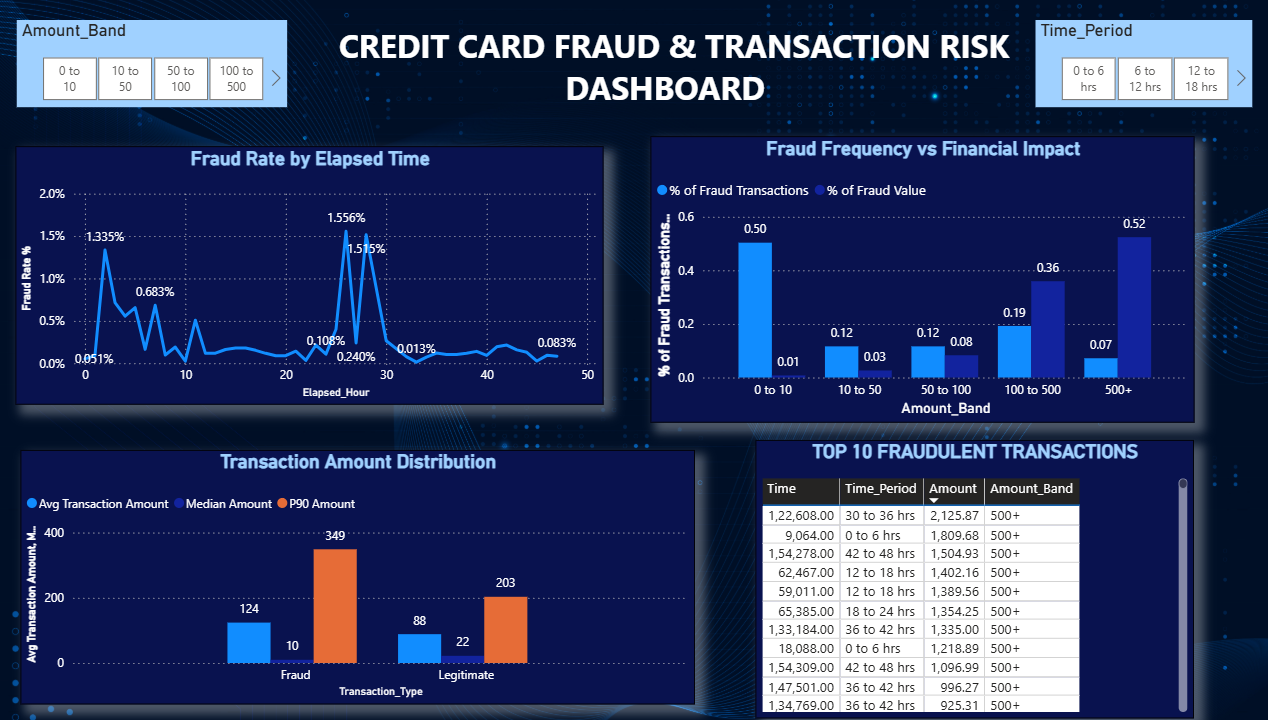

What the dashboard file says about the page in this screenshot:
{"tool":"powerbi","page":{"name":"Fraud Analysis","canvas":[1280,720],"ordinal":1},"visuals":[{"type":"lineChart","title":"Fraud Rate by Elapsed Time","fields":{"Category":["fraud_cleaned.Elapsed_Hour"],"Y":["fraud_cleaned.Fraud Rate %"]},"box":[28,146,588,258],"z":0},{"type":"clusteredColumnChart","title":"Fraud Frequency vs Financial Impact","fields":{"Category":["fraud_cleaned.Amount_Band"],"Y":["fraud_cleaned.% of Fraud Transactions","fraud_cleaned.% of Fraud Value"]},"box":[662,136,544,286],"z":1000},{"type":"textbox","box":[315,18.3,733.3,115],"z":2000},{"type":"slicer","title":"Amount_Band","fields":{"Values":["fraud_cleaned.Amount_Band"]},"box":[28.2,19.7,270.4,87.3],"z":3000},{"type":"slicer","title":"Time_Period","fields":{"Values":["fraud_cleaned.Time_Period"]},"box":[1047.9,19.7,216.9,87.3],"z":4000},{"type":"clusteredColumnChart","title":"Transaction Amount Distribution","fields":{"Category":["fraud_cleaned.Transaction_Type"],"Y":["fraud_cleaned.Avg Transaction Amount","fraud_cleaned.Median Amount","fraud_cleaned.P90 Amount"]},"box":[32,450,674,254],"z":5000},{"type":"tableEx","title":"TOP 10 FRAUDULENT TRANSACTIONS","fields":{"Values":["fraud_cleaned.Time","fraud_cleaned.Time_Period","fraud_cleaned.Amount","fraud_cleaned.Amount_Band"]},"box":[768,440,438,278],"z":6000}]}

Visuals, with their boxes in screenshot pixels (x1, y1, x2, y2), scaled from the page's 1280x720 canvas onto the 1268x720 screenshot:
"Fraud Rate by Elapsed Time" lineChart: 28:146:610:404
"Fraud Frequency vs Financial Impact" clusteredColumnChart: 656:136:1195:422
textbox: 312:18:1038:133
"Amount_Band" slicer: 28:20:296:107
"Time_Period" slicer: 1038:20:1253:107
"Transaction Amount Distribution" clusteredColumnChart: 32:450:699:704
"TOP 10 FRAUDULENT TRANSACTIONS" tableEx: 761:440:1195:718
